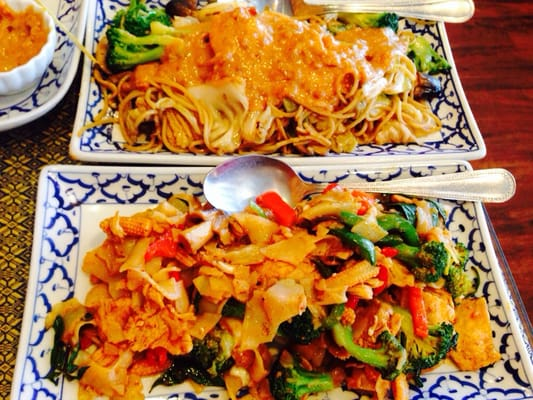sushi: (60, 0, 505, 169), (0, 0, 59, 113)
